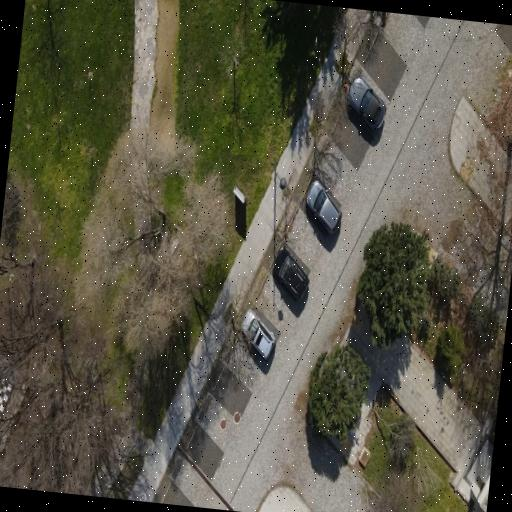car: (348, 77, 385, 129), (274, 247, 309, 300), (307, 180, 341, 233), (242, 310, 275, 358)
